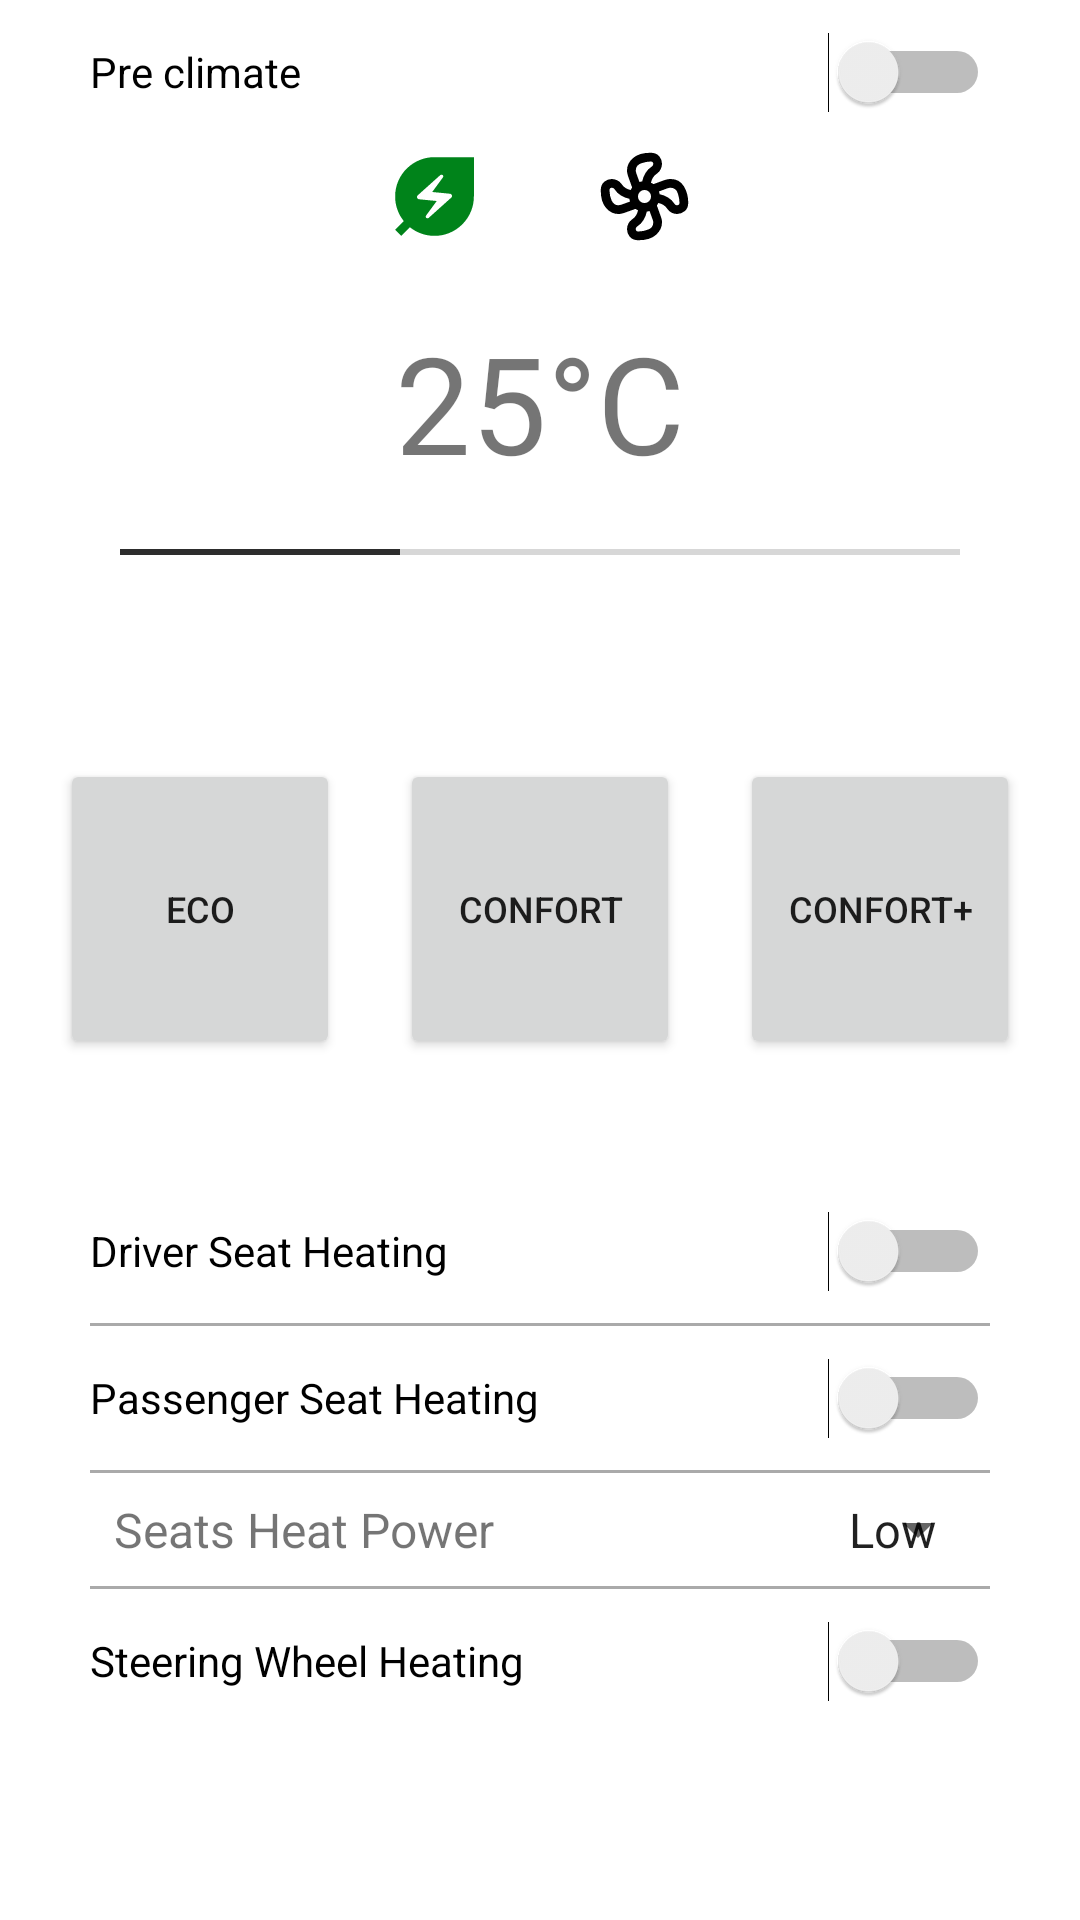

Point at icon controls on the screen. Image size 1080w x 1920h, points as (x,y).
energy savings leaf: (434,196)
mode fan: (644,196)
